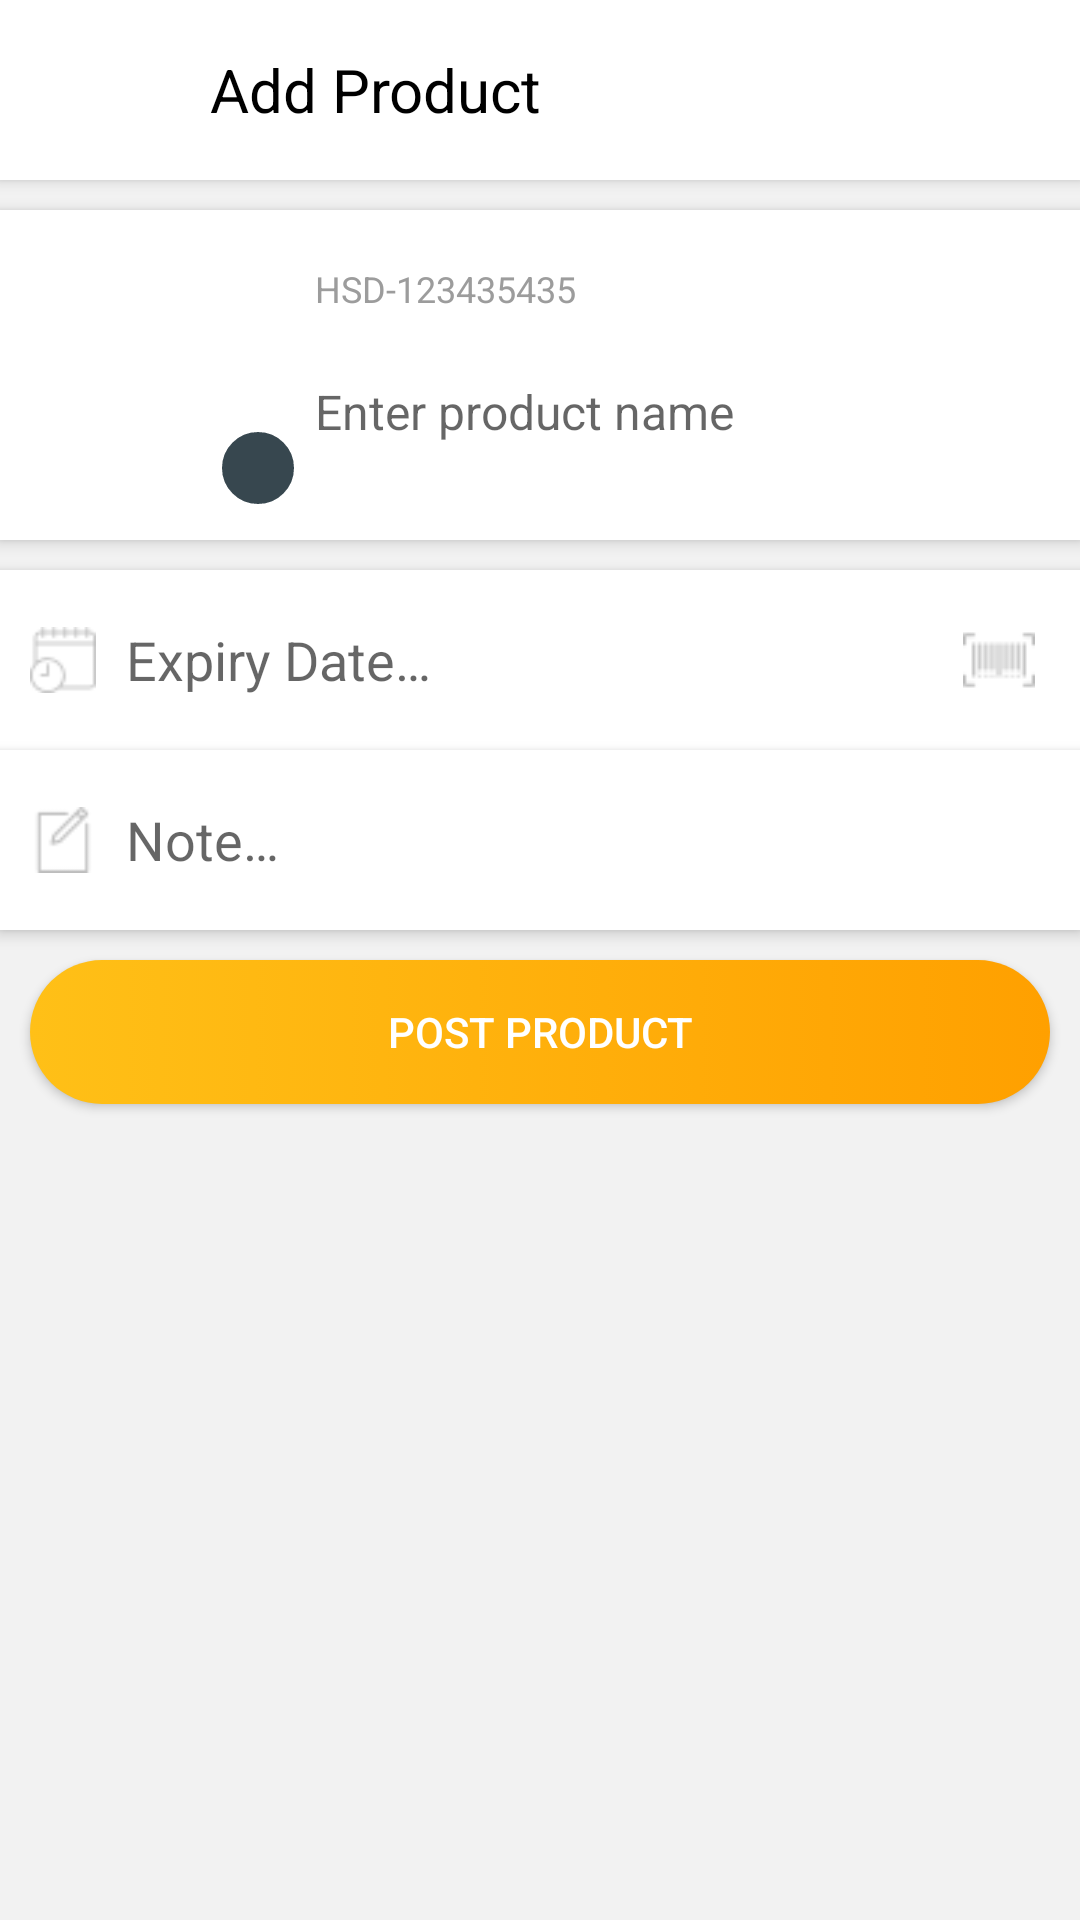

Screen size 1080px x 1920px. Icon name, then its box in pixels as {"left": x1, "top": y1, "right": x2, "bottom": y2}:
calendar: {"left": 30, "top": 627, "right": 96, "bottom": 693}
sacnex: {"left": 963, "top": 633, "right": 1035, "bottom": 687}
